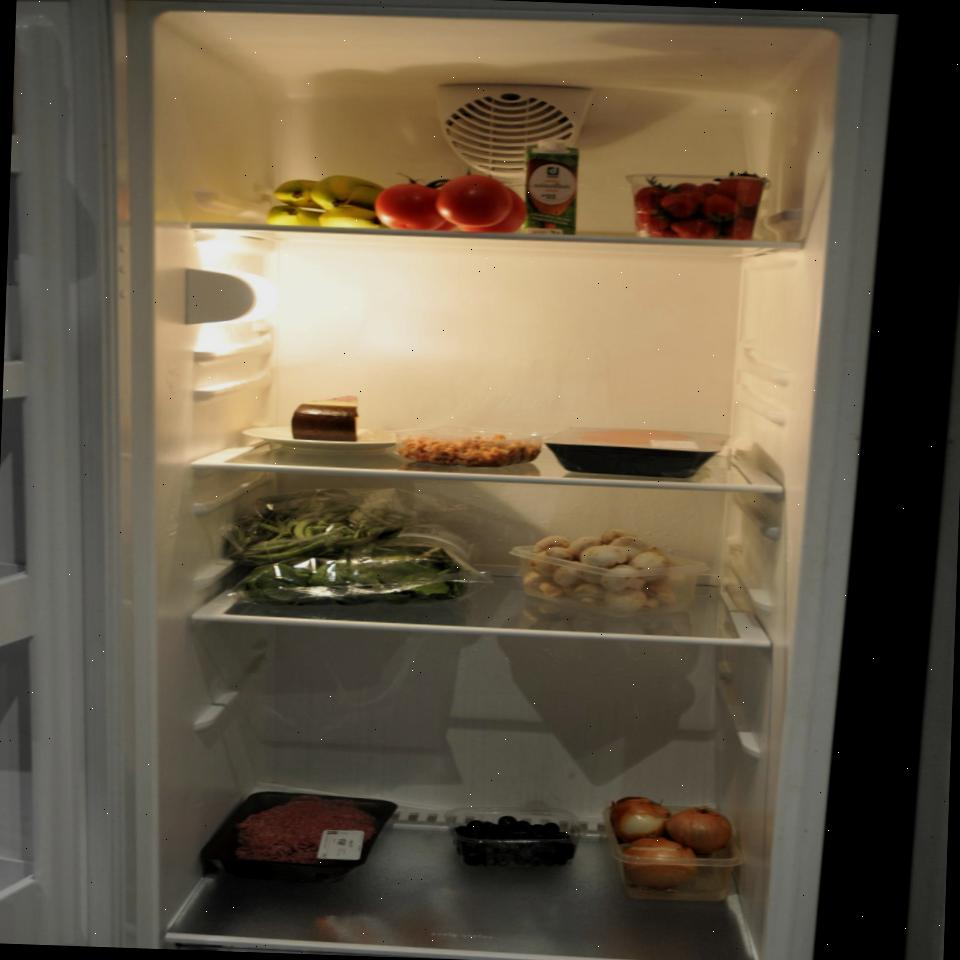Plátano: (259, 172, 386, 234)
Queso: (287, 388, 373, 449)
Tomate: (366, 161, 525, 240)
blueberries: (442, 806, 582, 874)
strawberries: (618, 164, 775, 236)
